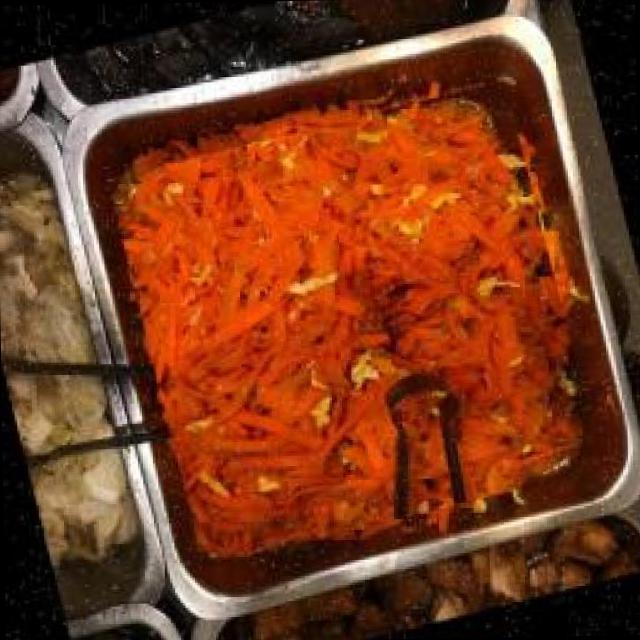carrot_eggs: (106, 76, 602, 572)
chinese_cabbage: (0, 163, 139, 573)
